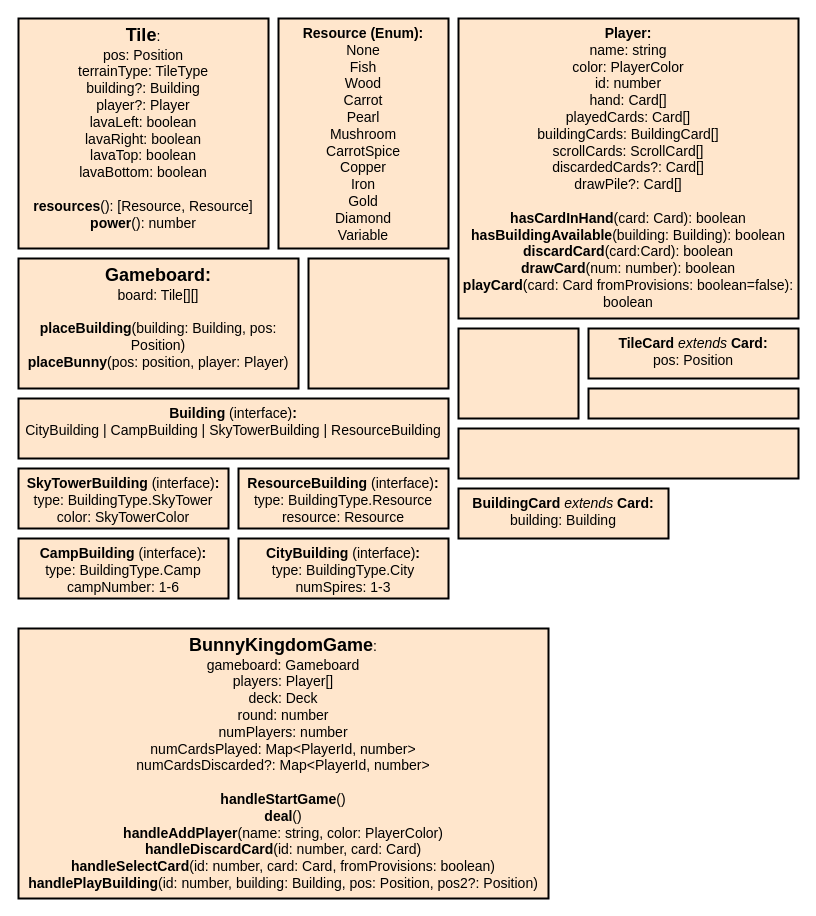
Some shapes in this 816 by 916 pixel diagram are drawn without their labels. Here are the shapes that lost their labels. From the top down, the box of each, then its label:
(307, 257, 449, 389): Deck: decl: Card[][] shuffle() deal (num: number)
(457, 327, 579, 419): Card: name: string type: CardType tooltip: string
(587, 387, 799, 419): ProvisionsCard extends Card :
(457, 427, 799, 479): ScrollCard extends Card : scoringFunction: (state, player) => number
